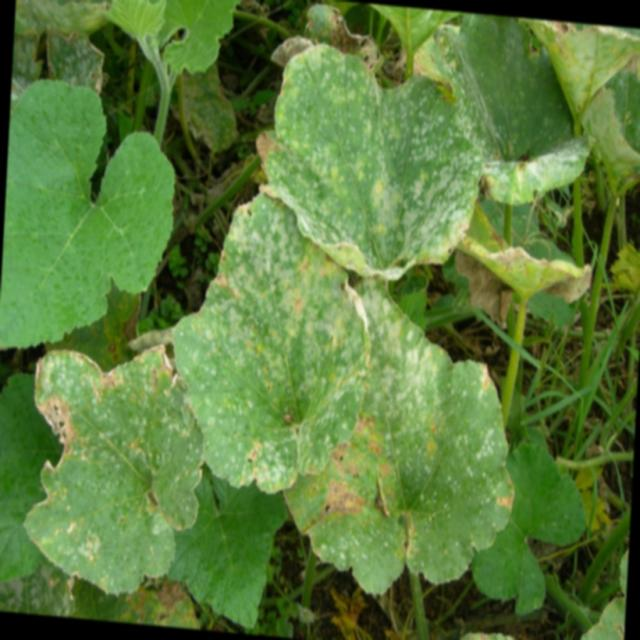Powdery Mildew: (16, 298, 467, 568), (260, 42, 485, 280)
